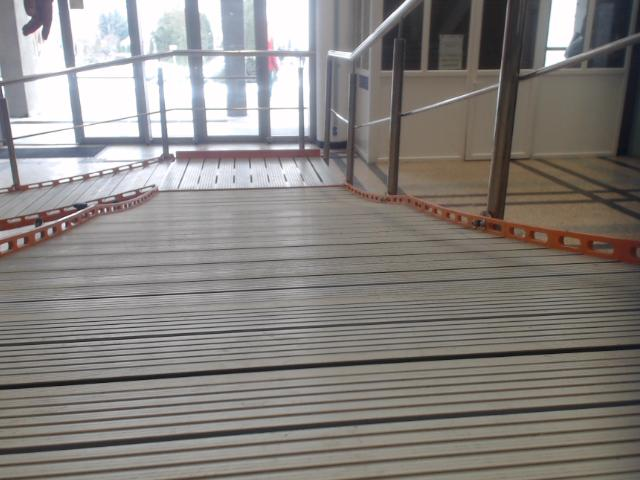rampDown: (0, 147, 639, 479)
ramps-railing: (325, 0, 639, 218), (27, 49, 272, 80), (402, 85, 498, 116), (0, 87, 19, 186), (159, 67, 172, 157), (88, 115, 140, 126), (356, 117, 390, 128), (192, 106, 296, 109), (60, 123, 86, 130), (285, 51, 313, 57), (0, 78, 23, 85), (33, 130, 60, 134), (140, 112, 159, 115), (168, 108, 184, 110)
